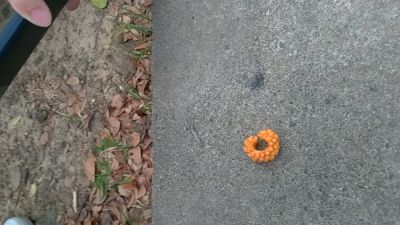eggs: (243, 128, 283, 165)
